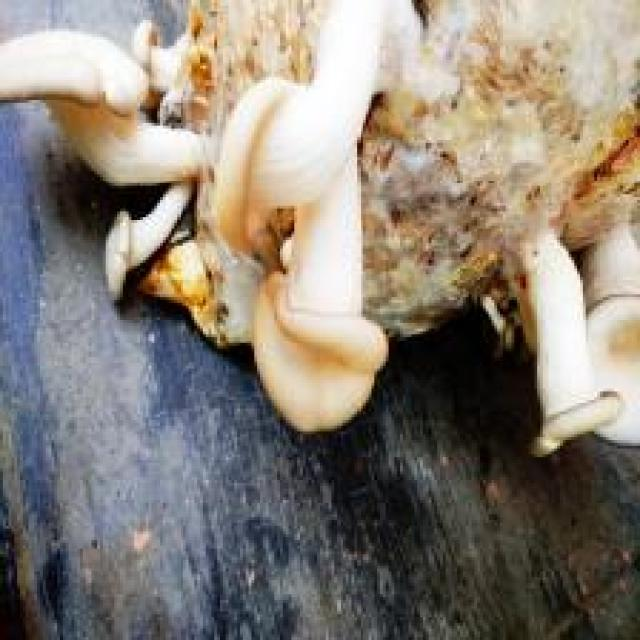death-cap: (0, 0, 637, 457)
